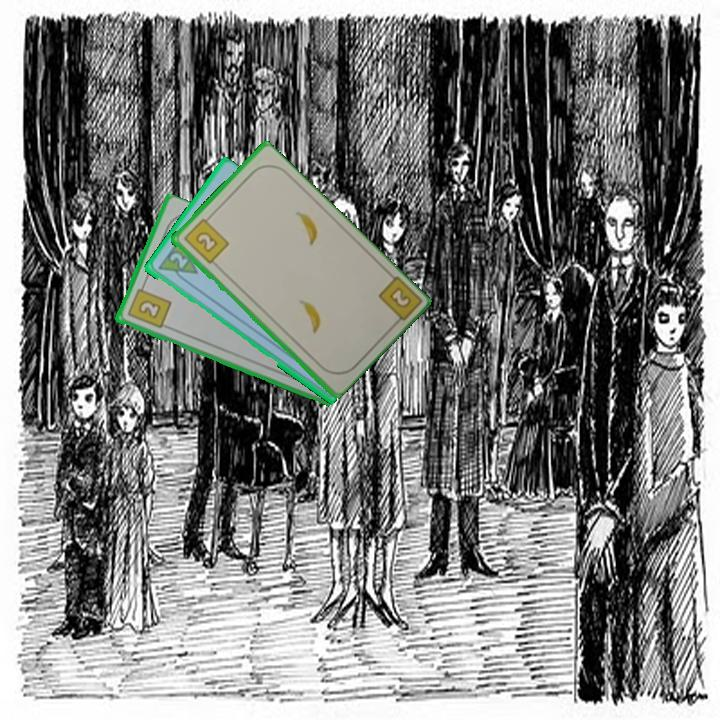2b: (180, 212, 231, 267), (374, 272, 422, 330), (124, 280, 173, 331)
2p: (166, 249, 190, 271)
